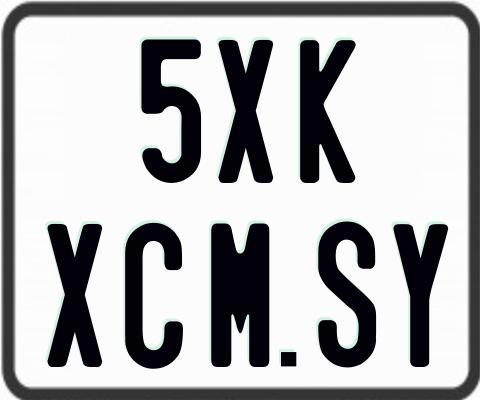5: (141, 37, 202, 187)
C: (122, 220, 182, 368)
K: (300, 40, 357, 188)
M: (209, 221, 268, 367)
S: (318, 219, 379, 371)
X: (44, 221, 105, 368), (215, 39, 272, 188)
Y: (393, 223, 454, 367)
